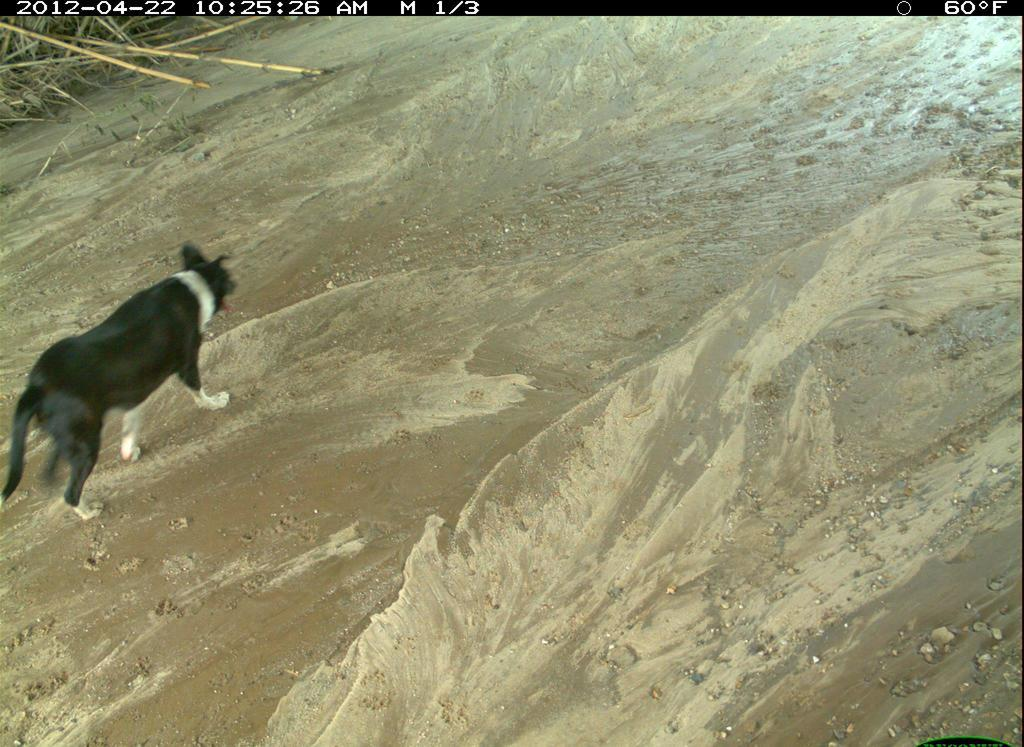dog: (1, 471, 484, 747)
